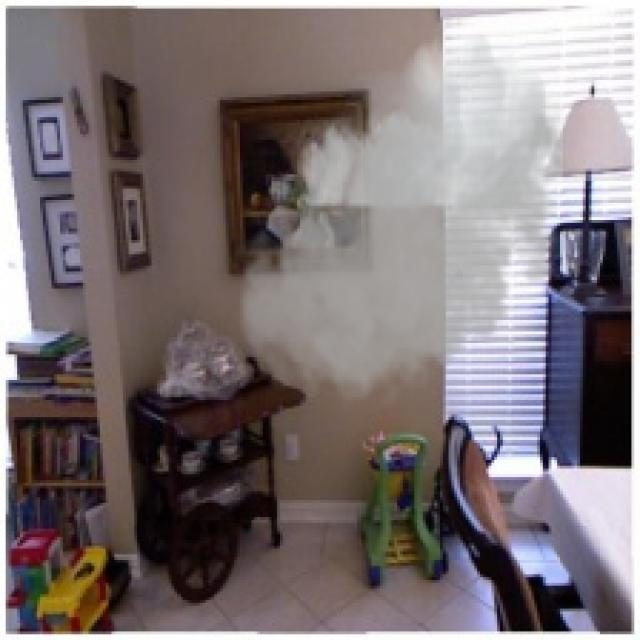smoke: (232, 17, 577, 417)
